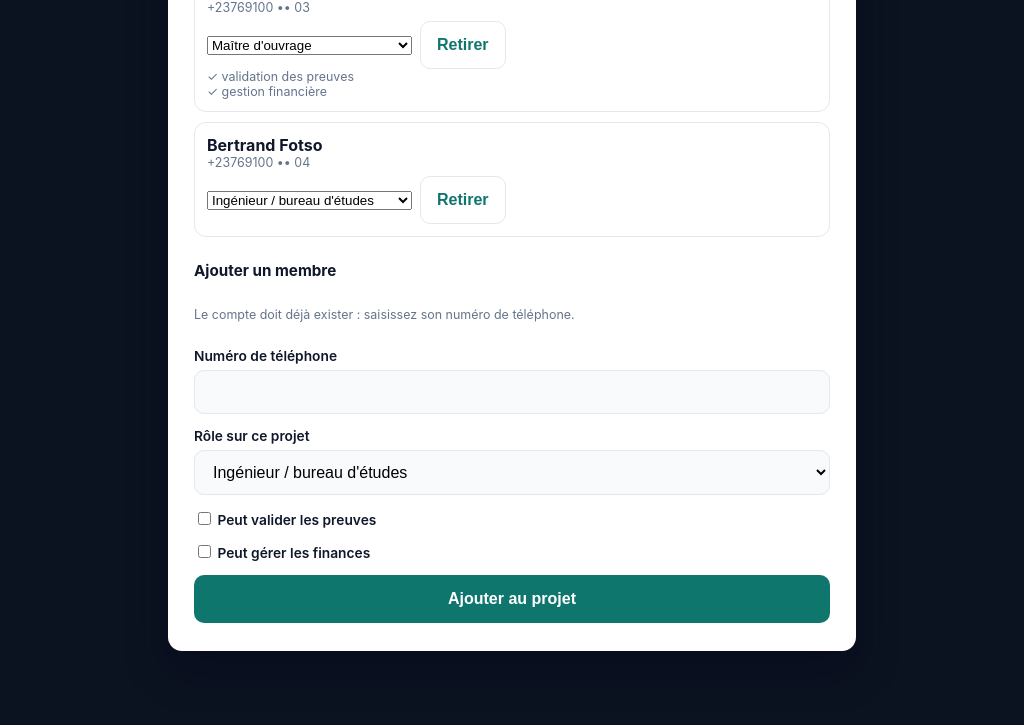
Test case: ProjectDetailPage › explique clairement qu'un numéro inconnu n'a pas de compte
This screenshot has width=1024, height=725.
(page scrolled)
Step 1. Type "+237699000777" into the field labelled "Numéro de téléphone" → (512, 392), box [194,370,830,414]
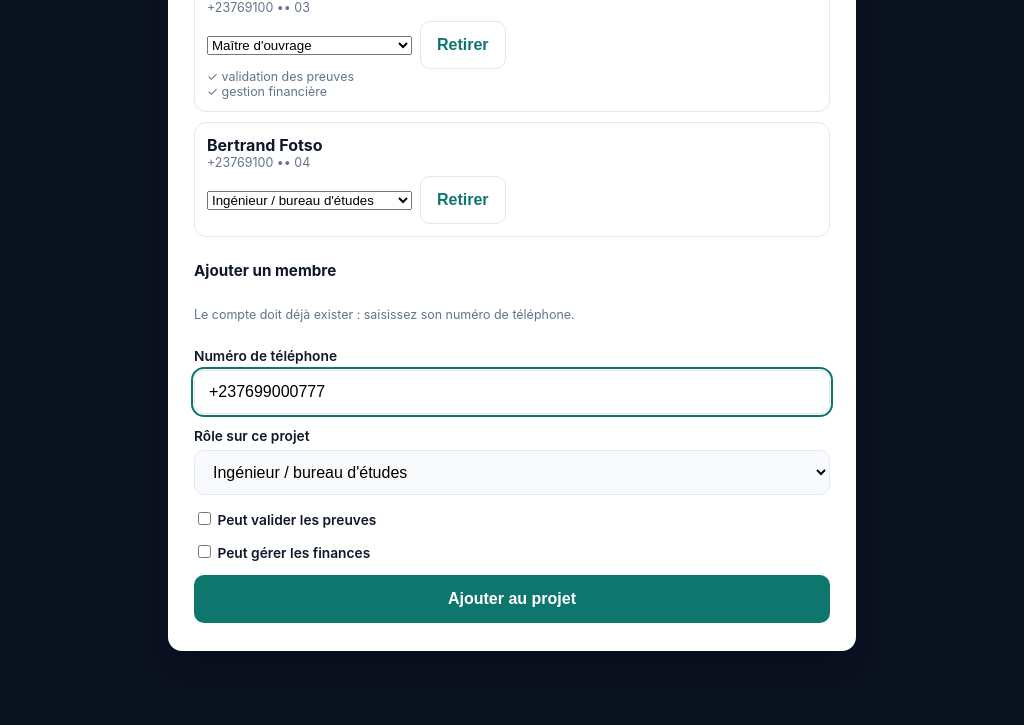
Step 2. Click the button "Ajouter au projet" → (512, 599), box [194,575,830,623]
(page scrolled)
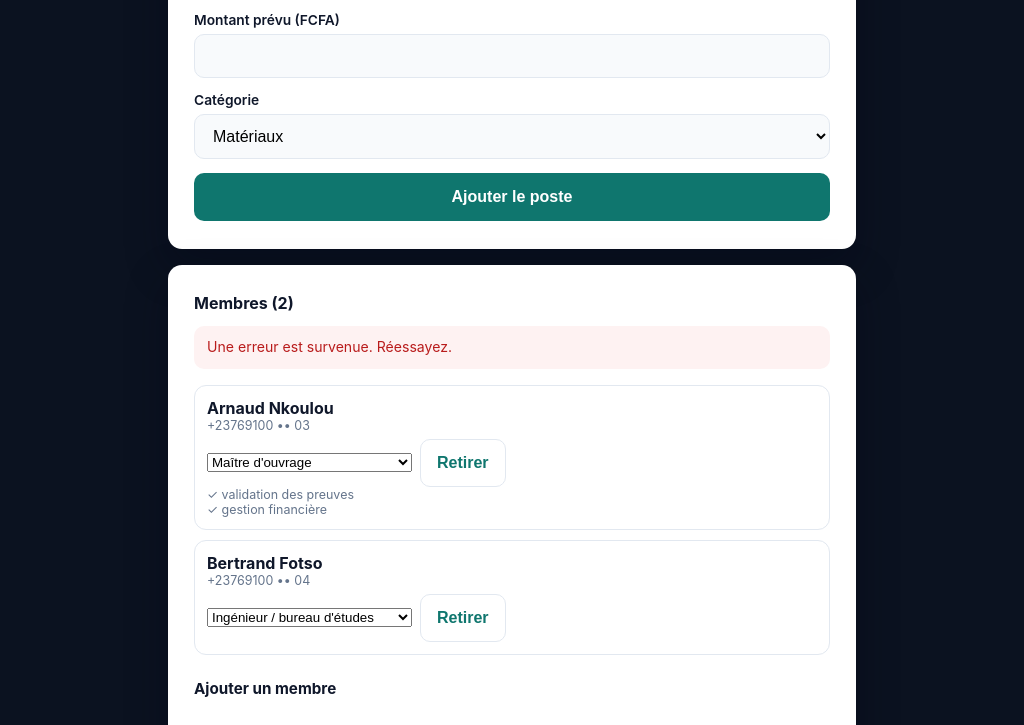
expect the message shows "erreur": met, box [207,338,452,356]
